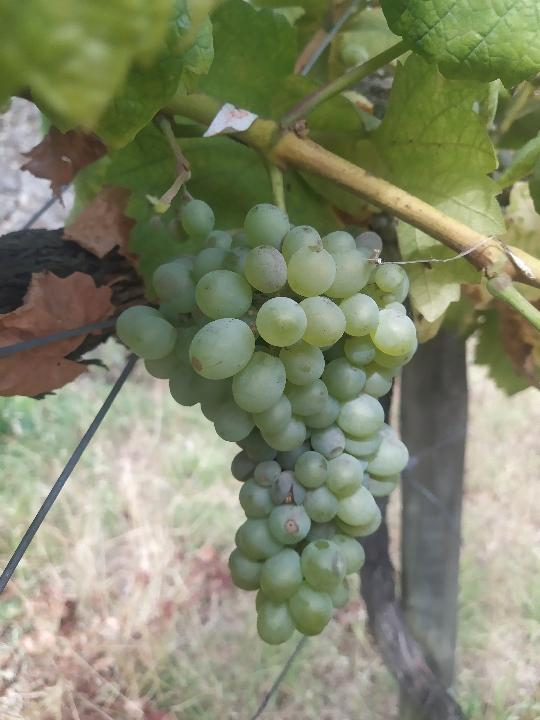grape: (112, 197, 417, 651)
